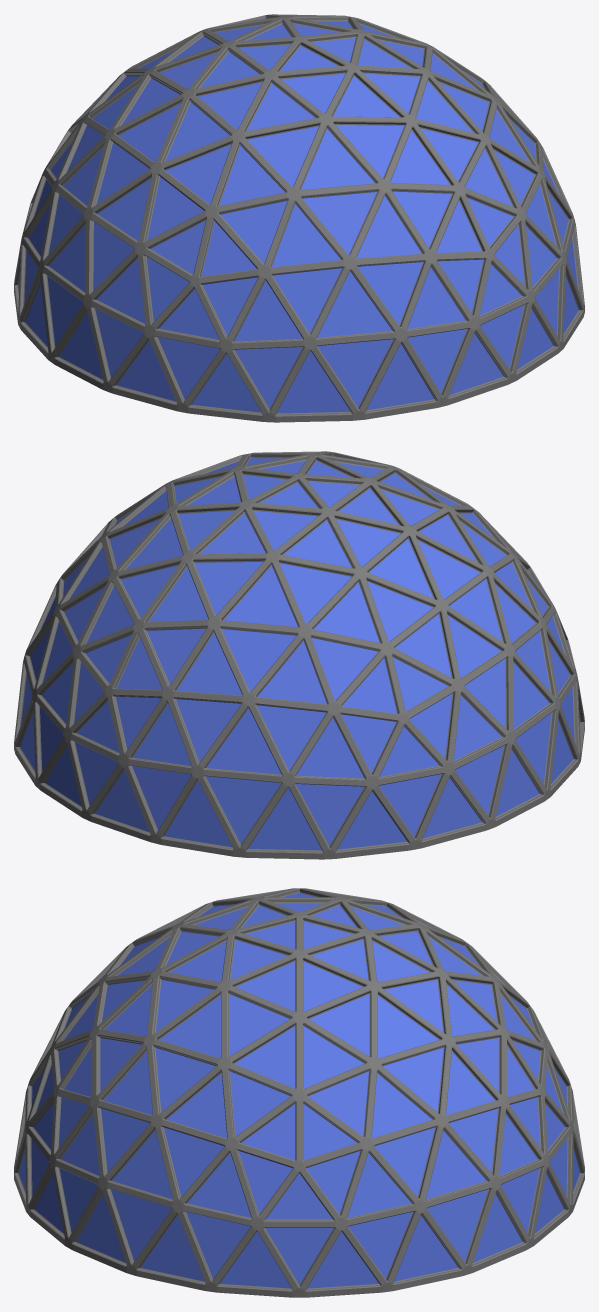
Rendered from Dome.fbx.
3 views of the same model, one above another, from view 1: azimuth 30°, elevation 25°; view 2: azimuth 150°, elevation 25°; view 3: azimuth 270°, elevation 25° (orthographic).
Parts seen in each view (by area): view 1: Icosphere; view 2: Icosphere; view 3: Icosphere.
Boxes of the visible parts, left/top/right/bottom form: Icosphere: left=14, top=14, right=584, bottom=422; Icosphere: left=14, top=451, right=584, bottom=859; Icosphere: left=14, top=888, right=584, bottom=1297.
Size of the model in its own units: 199 by 101 by 199.
